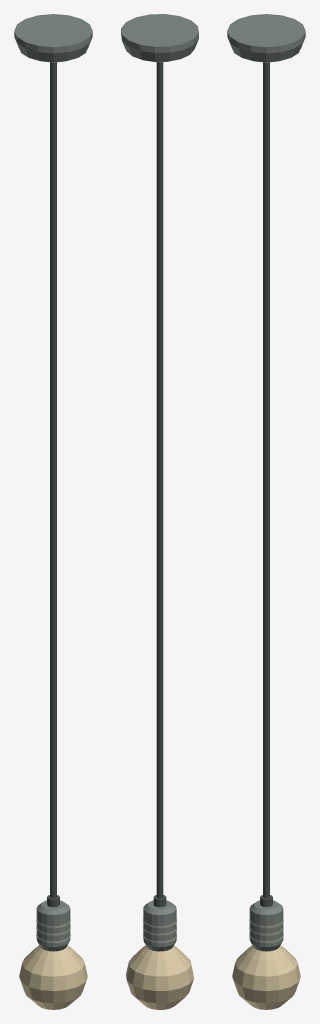
The model's file is FishStationLamp.fbx.
The picture shows the model from 3 angles, left to right: view 1: azimuth 90°, elevation 25°; view 2: azimuth 150°, elevation 25°; view 3: azimuth 270°, elevation 25°; orthographic projection.
Parts seen in each view (by area): view 1: SupplyCord__Rubber, LampBulb__Lamp, CeilingRose__Steel, Socket__Steel, SocketBands__WornSteel; view 2: SupplyCord__Rubber, LampBulb__Lamp, CeilingRose__Steel, Socket__Steel, SocketBands__WornSteel; view 3: SupplyCord__Rubber, LampBulb__Lamp, CeilingRose__Steel, Socket__Steel, SocketBands__WornSteel.
Boxes of the visible parts, bbox=[...] form: SupplyCord__Rubber: bbox=[50, 62, 56, 898]; LampBulb__Lamp: bbox=[19, 945, 87, 1009]; CeilingRose__Steel: bbox=[14, 14, 92, 62]; Socket__Steel: bbox=[36, 900, 70, 951]; SocketBands__WornSteel: bbox=[36, 919, 70, 943]; SupplyCord__Rubber: bbox=[156, 62, 163, 898]; LampBulb__Lamp: bbox=[126, 945, 193, 1009]; CeilingRose__Steel: bbox=[121, 14, 198, 62]; Socket__Steel: bbox=[143, 900, 176, 951]; SocketBands__WornSteel: bbox=[143, 918, 176, 943]; SupplyCord__Rubber: bbox=[263, 62, 269, 898]; LampBulb__Lamp: bbox=[232, 945, 300, 1009]; CeilingRose__Steel: bbox=[227, 14, 305, 62]; Socket__Steel: bbox=[249, 900, 283, 951]; SocketBands__WornSteel: bbox=[249, 919, 283, 943].
Size of the model in its own units: 0.16 by 2.19 by 0.16.
